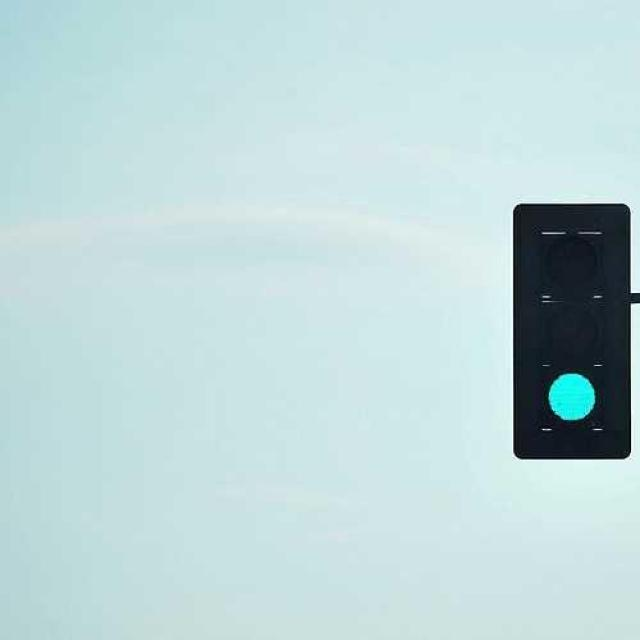Traffic Light -Green-: (506, 200, 637, 469)
